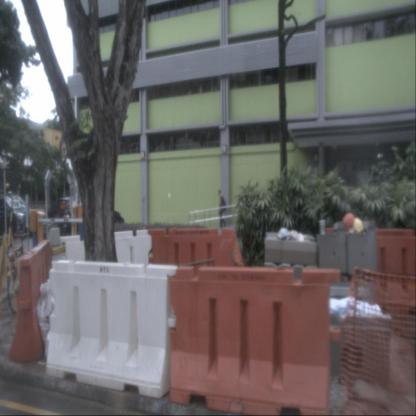barrier: (169, 266, 341, 416), (46, 259, 178, 399), (324, 228, 416, 317), (60, 229, 152, 311), (150, 227, 236, 306), (9, 238, 54, 364)
